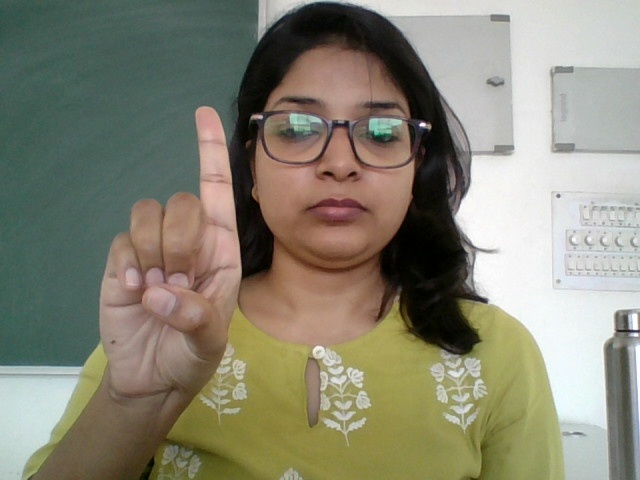D: (91, 107, 258, 414)
